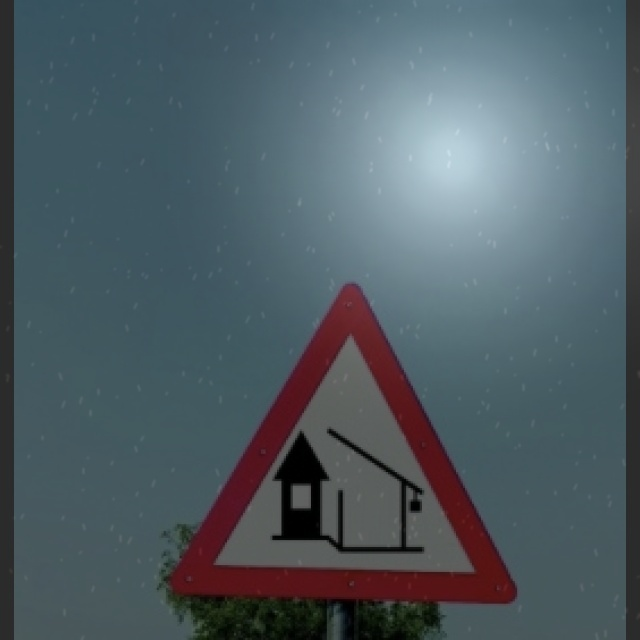Barrier_Ahead: (169, 286, 521, 604)
